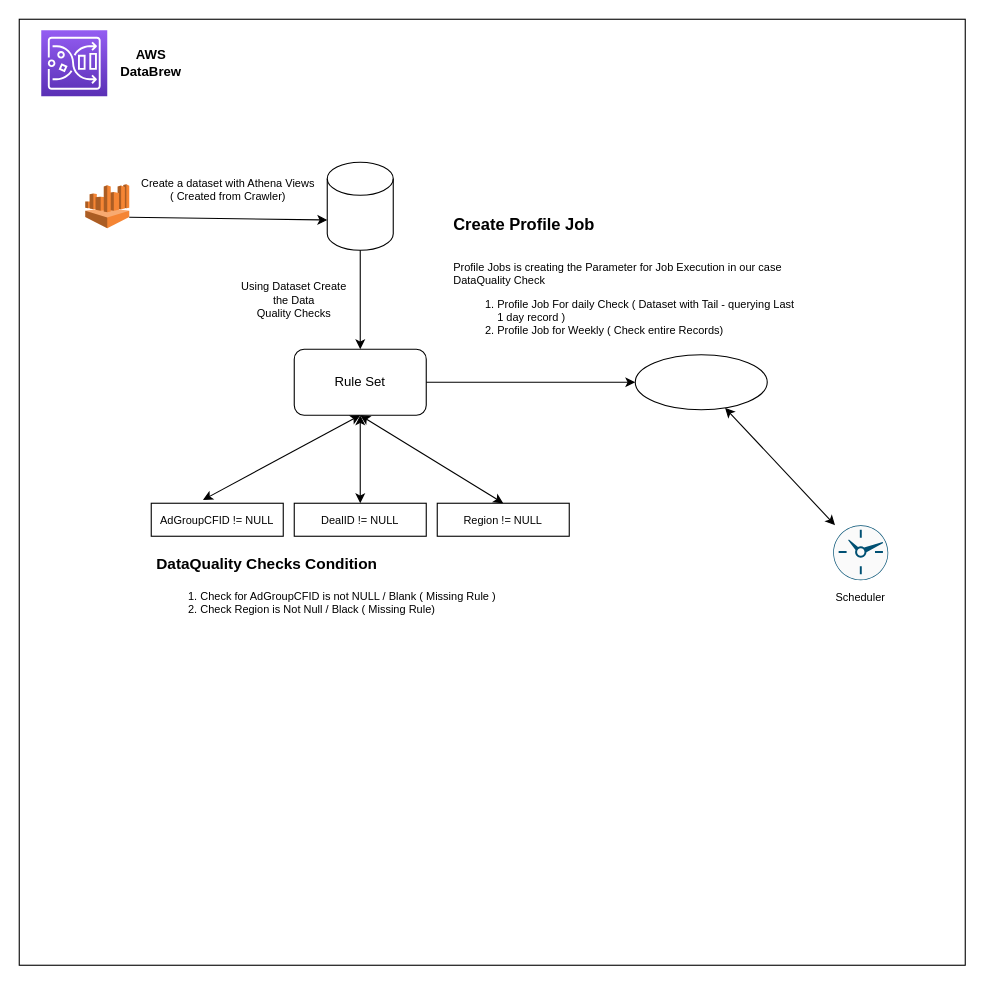
Some shapes in this 985 by 985 pixel diagram are drawn without their labels. Each missing label, with the centre of its shape:
"Dataset" belongs at point 359,205.
"Profile Job" belongs at point 700,382.
